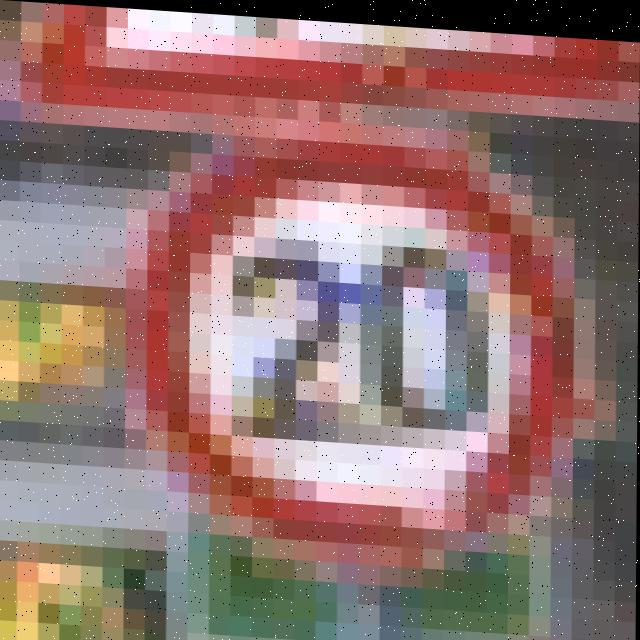speed_limit_20: (139, 110, 626, 566)
